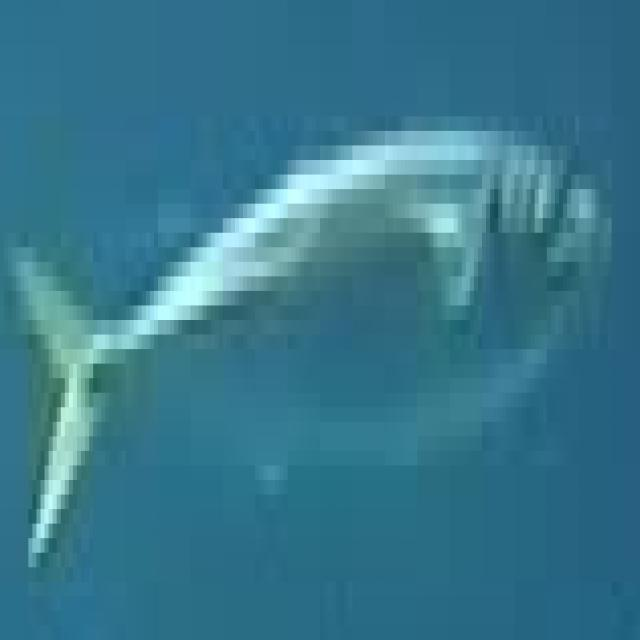fish: (0, 14, 636, 640)
